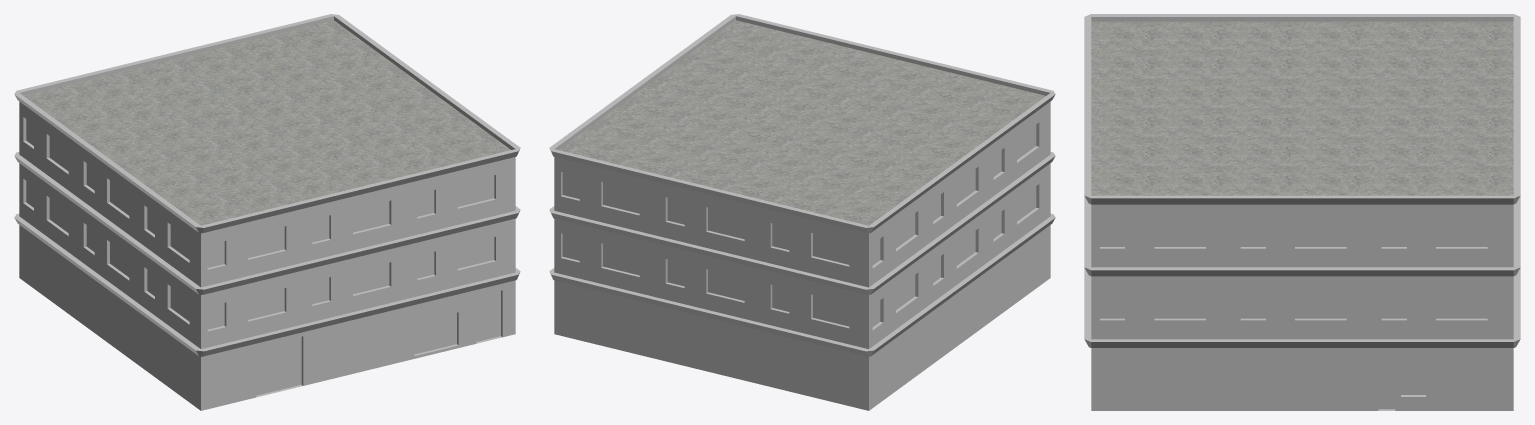
The model's file is RV_Building_Type_A_01.fbx.
The picture shows the model from 3 angles, left to right: view 1: azimuth 30°, elevation 25°; view 2: azimuth 150°, elevation 25°; view 3: azimuth 270°, elevation 25°; orthographic projection. The views are drawn at different scales.
Visible parts, largest first — view 1: RV_Building_Type_A_01; view 2: RV_Building_Type_A_01; view 3: RV_Building_Type_A_01.
Boxes of the visible parts, <box> form: RV_Building_Type_A_01: <box>14,14,520,410</box>; RV_Building_Type_A_01: <box>549,14,1055,410</box>; RV_Building_Type_A_01: <box>1084,14,1520,410</box>.
Size of the model in its own units: 1586 by 864 by 1586.
